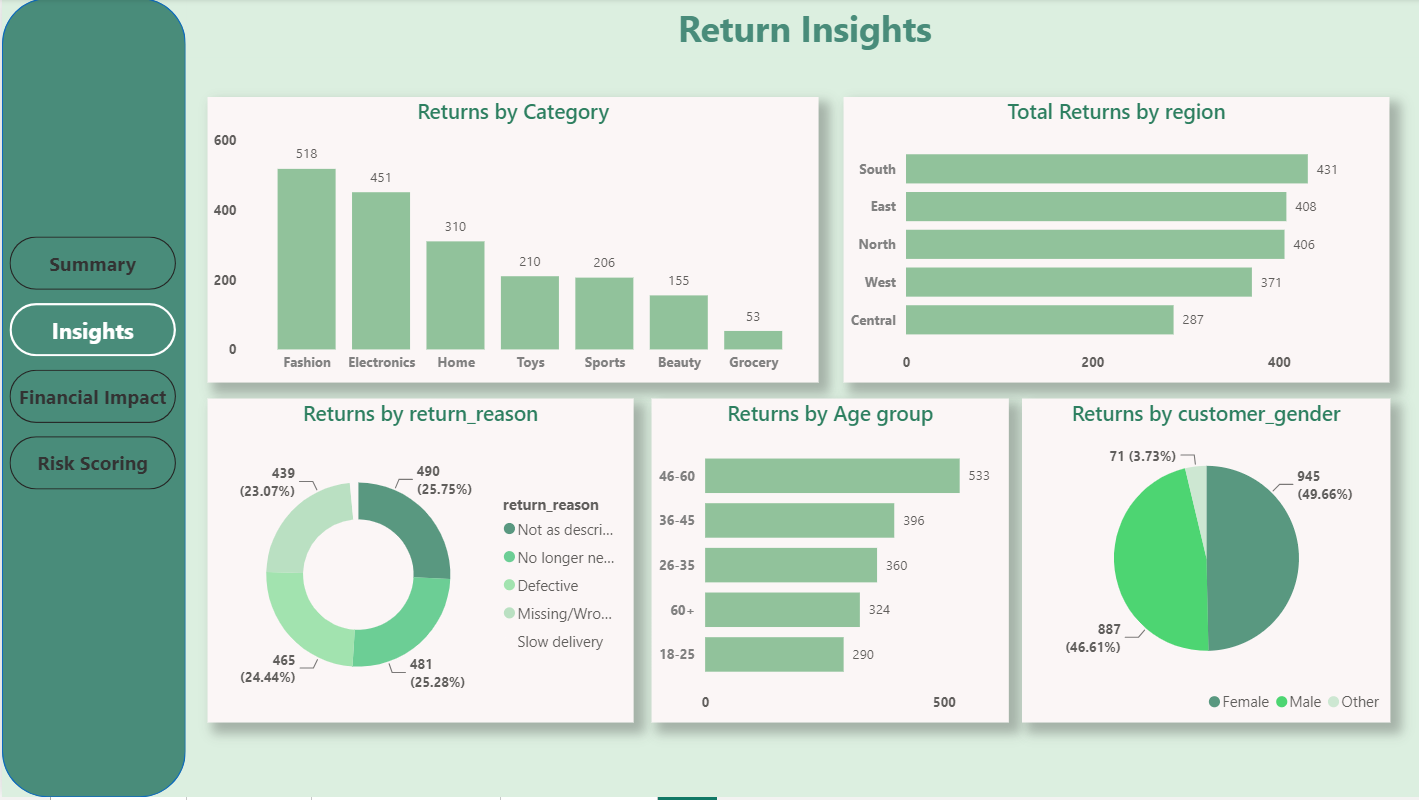

The dashboard page shown, as its layout file describes it:
{"tool":"powerbi","page":{"name":"Insights","canvas":[1280,720],"ordinal":1},"visuals":[{"type":"shape","box":[0,0,165.6,720.3],"z":0,"group":"g4"},{"type":"textbox","box":[166.1,0,1114.5,53.2],"z":3},{"type":"clusteredColumnChart","title":"Returns by Category","fields":{"Category":["return_risk_scoring.category"],"Y":["return_risk_scoring.Total Returns"]},"box":[185.7,88.9,550.8,257.1],"z":4},{"type":"clusteredBarChart","fields":{"Category":["return_risk_scoring.region"],"Y":["return_risk_scoring.Total Returns"]},"box":[758.7,88.9,492.1,257.1],"z":5},{"type":"donutChart","title":"Returns by return_reason","fields":{"Category":["return_risk_scoring.return_reason"],"Y":["return_risk_scoring.Total Returns"]},"box":[185.7,360.3,384.1,292.1],"z":6},{"type":"clusteredBarChart","title":"Returns by Age group","fields":{"Category":["ecommerce_returns_clean.age_group"],"Y":["return_risk_scoring.Total Returns"]},"box":[585.7,360.3,322.2,292.1],"z":7},{"type":"pieChart","title":" Returns by customer_gender","fields":{"Category":["return_risk_scoring.customer_gender"],"Y":["return_risk_scoring.Total Returns"]},"box":[919,360.3,331.7,292.1],"z":8},{"type":"group","id":"g1","title":"Group 1","box":[6.3,214.3,150.8,231.7],"z":9},{"type":"group","id":"g2","title":"Group 1","box":[0,0,166.7,720.6],"z":10},{"type":"pageNavigator","box":[6.3,214.3,150.8,231.7],"z":8001,"group":"g5"},{"type":"pageNavigator","box":[6.3,214.3,150.8,231.7],"z":8001,"group":"g4"},{"type":"group","id":"g3","title":"Group 2","box":[0,0,165.6,720.3],"z":8003,"group":"g2"},{"type":"group","id":"g4","title":"Group 3","box":[0,0,165.6,720.3],"z":8003,"group":"g3"},{"type":"group","id":"g5","title":"Group 2","box":[6.3,214.3,150.8,231.7],"z":8003,"group":"g1"}]}

Visuals, with their boxes in screenshot pixels (x1, y1, x2, y2), scaled from the page's 1280x720 canvas onto the 1419x800 screenshot:
shape: (x1=0, y1=0, x2=184, y2=799)
textbox: (x1=184, y1=0, x2=1418, y2=59)
"Returns by Category" clusteredColumnChart: (x1=206, y1=99, x2=816, y2=384)
clusteredBarChart - return_risk_scoring.region x return_risk_scoring.Total Returns: (x1=841, y1=99, x2=1387, y2=384)
"Returns by return_reason" donutChart: (x1=206, y1=400, x2=632, y2=725)
"Returns by Age group" clusteredBarChart: (x1=649, y1=400, x2=1006, y2=725)
" Returns by customer_gender" pieChart: (x1=1019, y1=400, x2=1387, y2=725)
"Group 1" group: (x1=7, y1=238, x2=174, y2=496)
"Group 1" group: (x1=0, y1=0, x2=185, y2=799)
pageNavigator: (x1=7, y1=238, x2=174, y2=496)
pageNavigator: (x1=7, y1=238, x2=174, y2=496)
"Group 2" group: (x1=0, y1=0, x2=184, y2=799)
"Group 3" group: (x1=0, y1=0, x2=184, y2=799)
"Group 2" group: (x1=7, y1=238, x2=174, y2=496)
